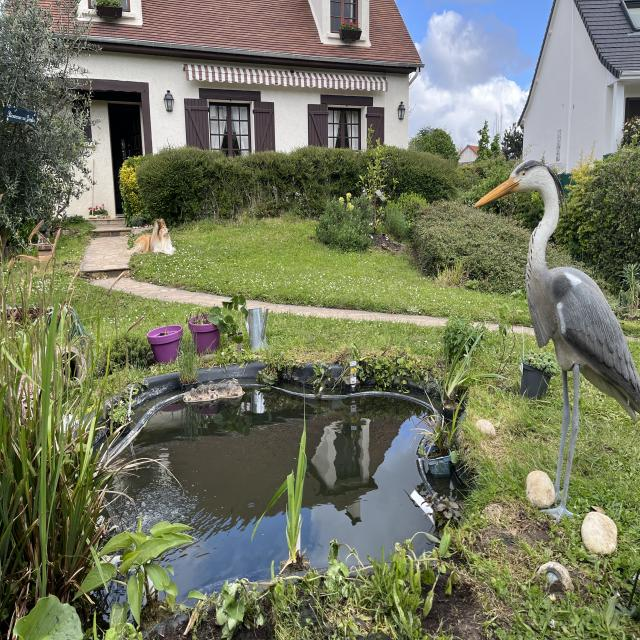Dog: (128, 202, 184, 270)
Heron: (470, 144, 640, 529)
